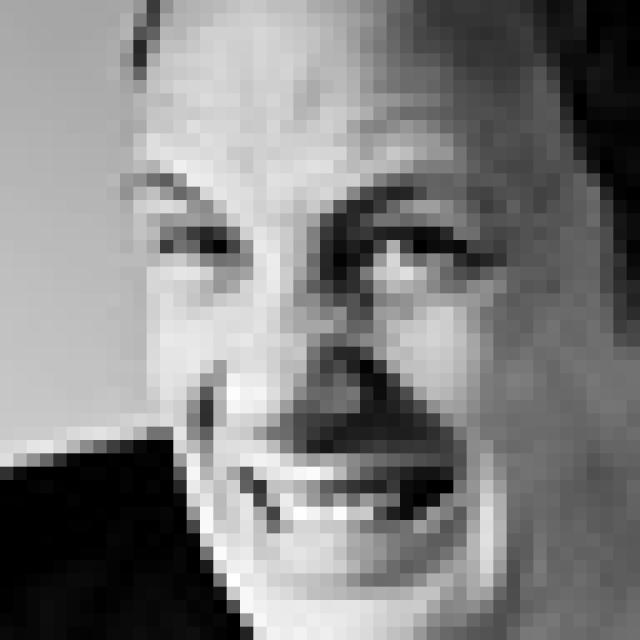disgust: (145, 160, 503, 594)
